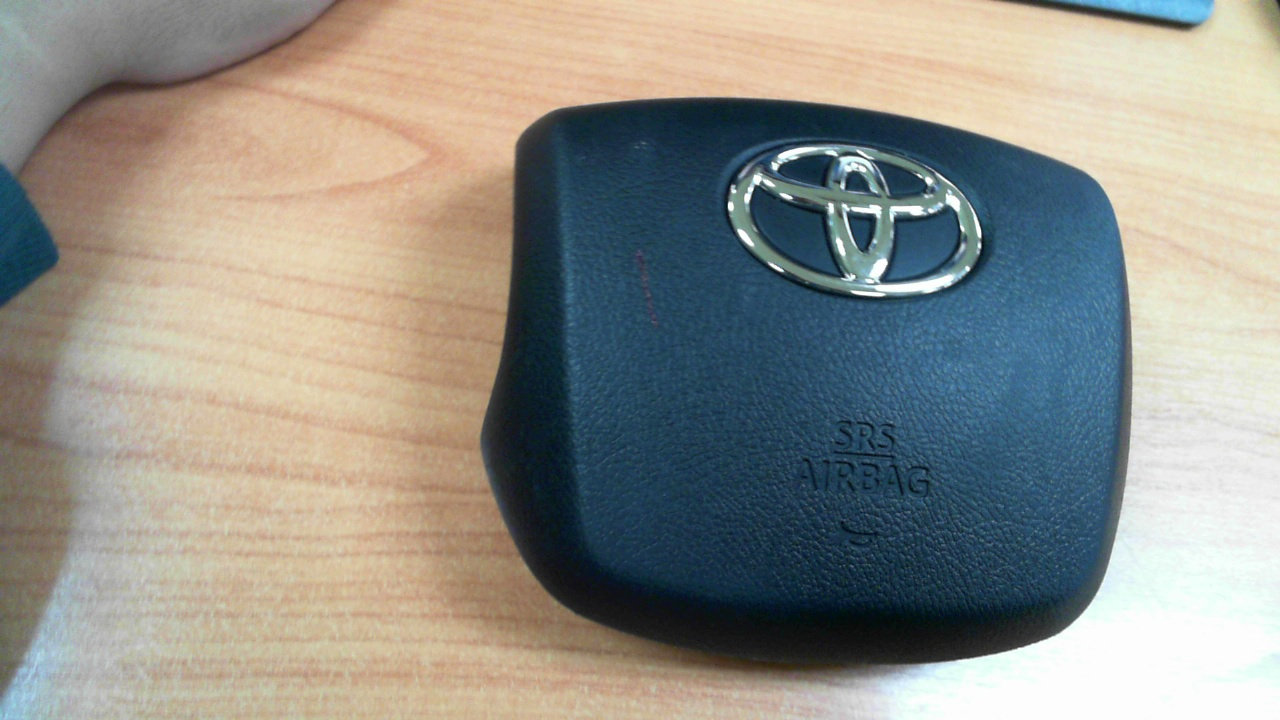Airbag: (479, 96, 1133, 665)
Toyota: (727, 143, 983, 298)
